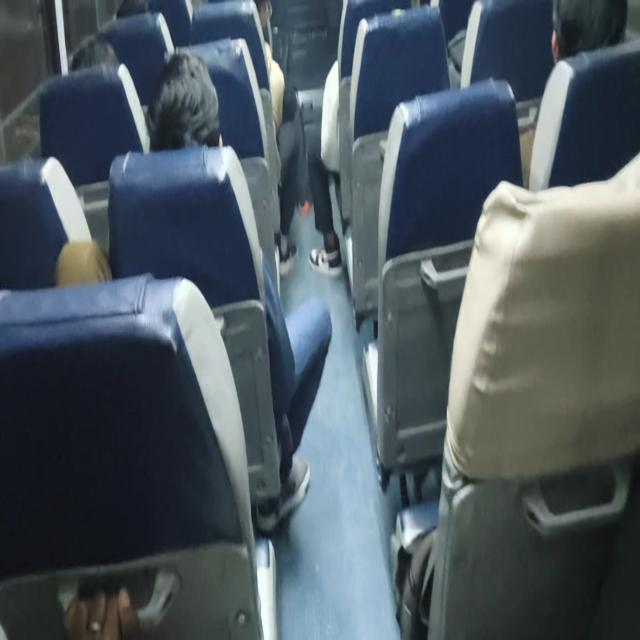person: (144, 48, 333, 530), (518, 0, 628, 186), (145, 48, 223, 151), (62, 574, 140, 638), (550, 0, 628, 64)
